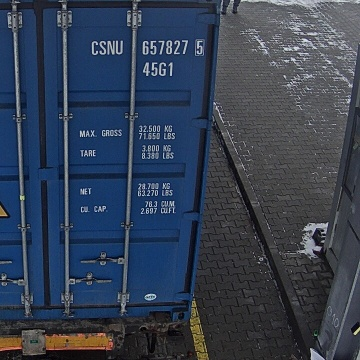serial_id: (91, 40, 203, 55)
